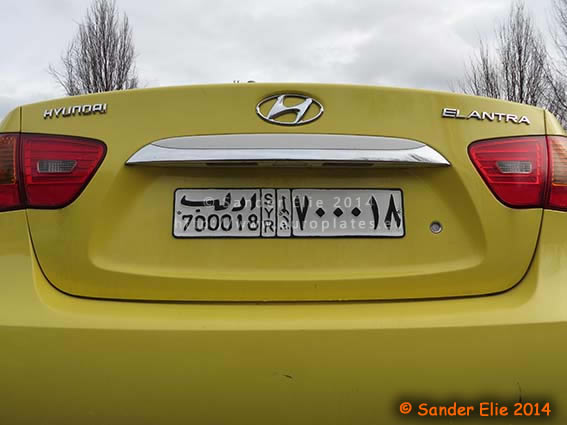license plate: (170, 184, 408, 240)
